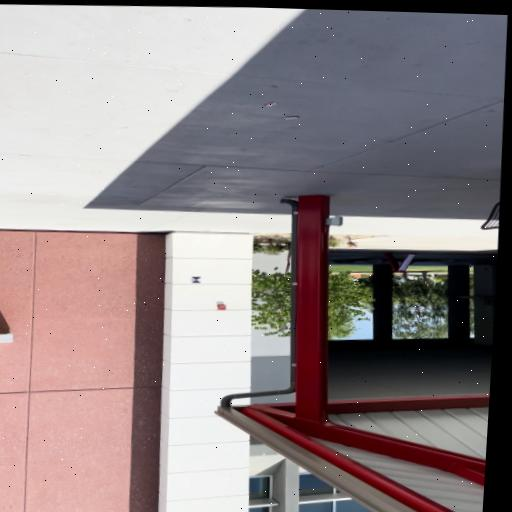target6: (190, 277, 202, 283)
